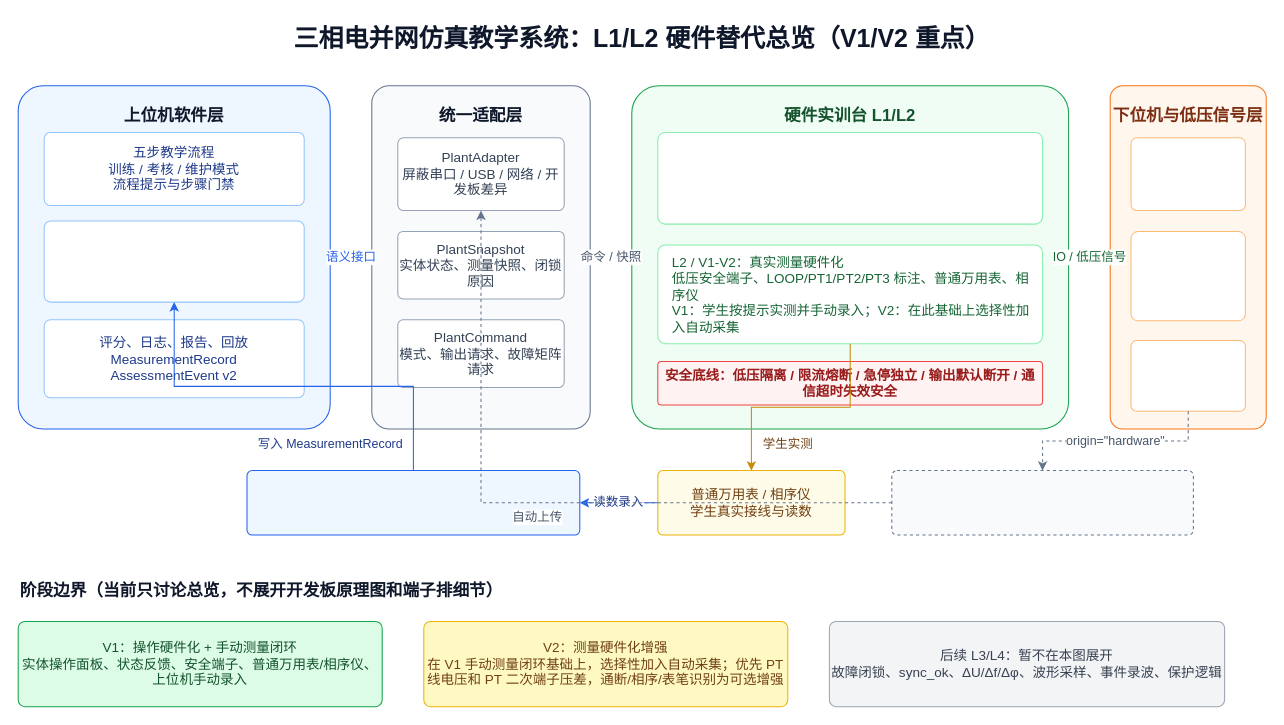
The diagram is 1284 pixels wide and 725 high, and some of its shapes have lost their labels. Here are the shapes that lost their labels. From the top down, the centre of each, then its label:
[850,178]: L1 / V1：实体操作硬件化 按钮、旋钮、合分闸、断路器位置、接地方式、急停、状态灯 目标：鼠标操作替换为实体动作，状态可回传
[1187,174]: MCU / IO 板 DI / DO / ADC / 继电器驱动
[173,261]: 手动录入 UI origin="manual" 保存读数 / 单位 / 端子组合 / 时间
[1187,275]: 低压等效信号 PT 低压源 端子压差 相序现象
[1187,375]: 后续增强 自动采集 表笔识别 状态码上传
[413,502]: V1 闭环：实测读数 → 手动录入 → service 判定 → 评分日志
[1042,502]: V2 增强：选择性自动采集 优先 PT 线电压 / PT 二次端子压差；不替代 V1 手动录入闭环
